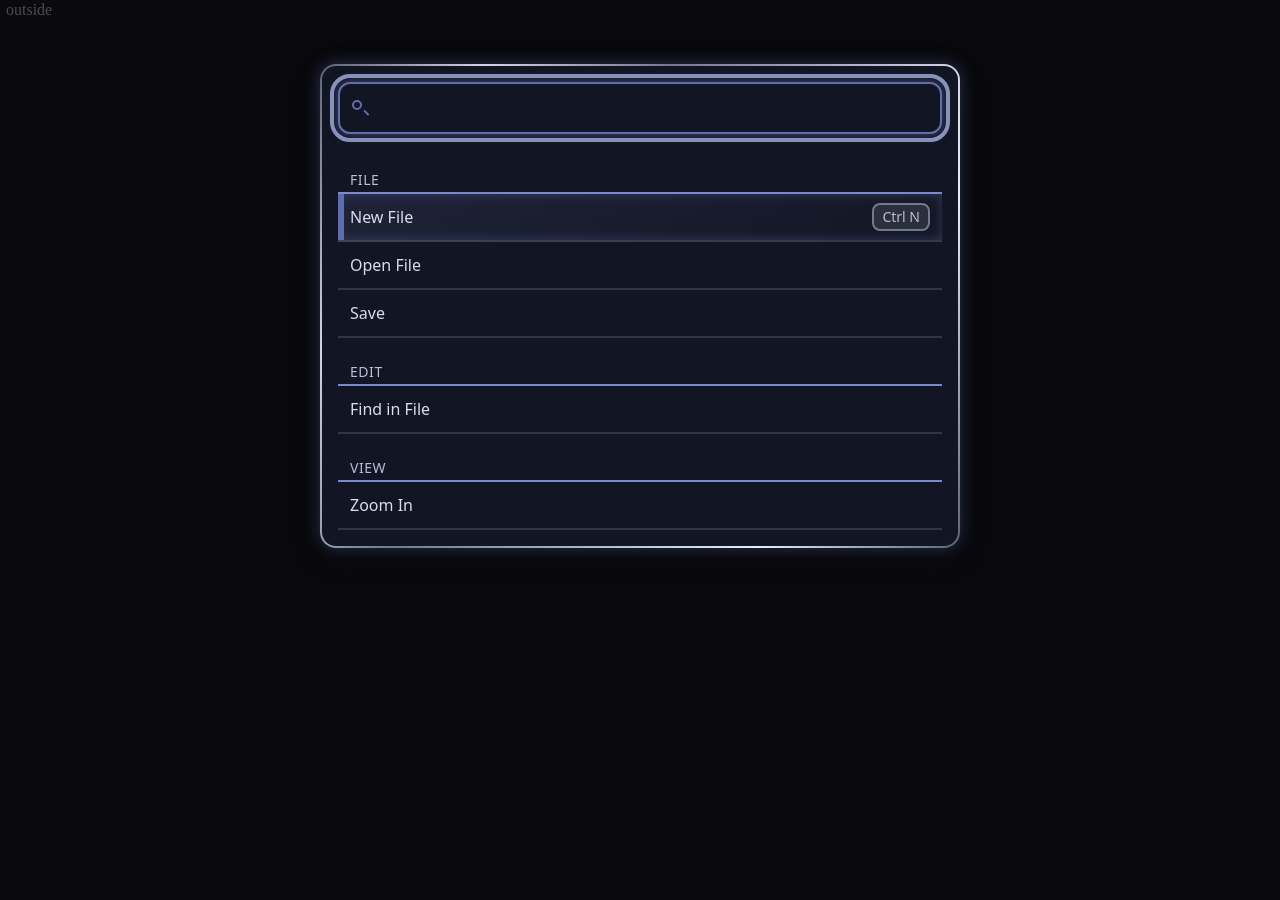
CommandPalette › filters the rendered options as the query changes (fuzzy default)
This screenshot has width=1280, height=900.
Type "fin" into the dropdown at x=652, y=108, box [376,84,928,132]
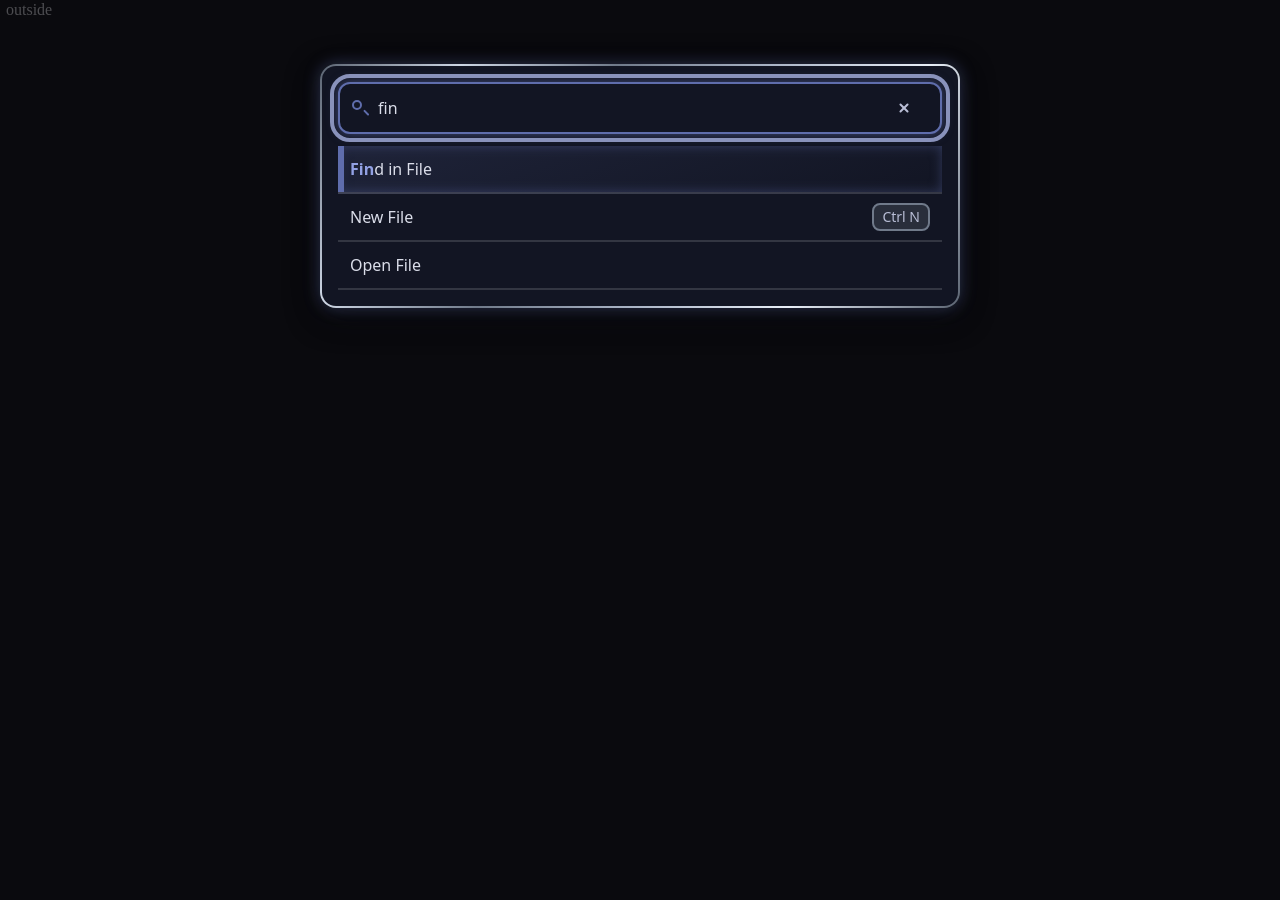
Expected: the option "Find in File" is shown, [338,146,942,194]
Result: the option "Zoom In" is gone
